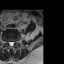CCS_normal: (10, 40, 12, 47)
LFS_severe_stenosis: (14, 38, 16, 44)
LLS_normal: (12, 40, 14, 46)
RFS_stenosis: (6, 39, 8, 45)
RLS_normal: (8, 39, 10, 46)
